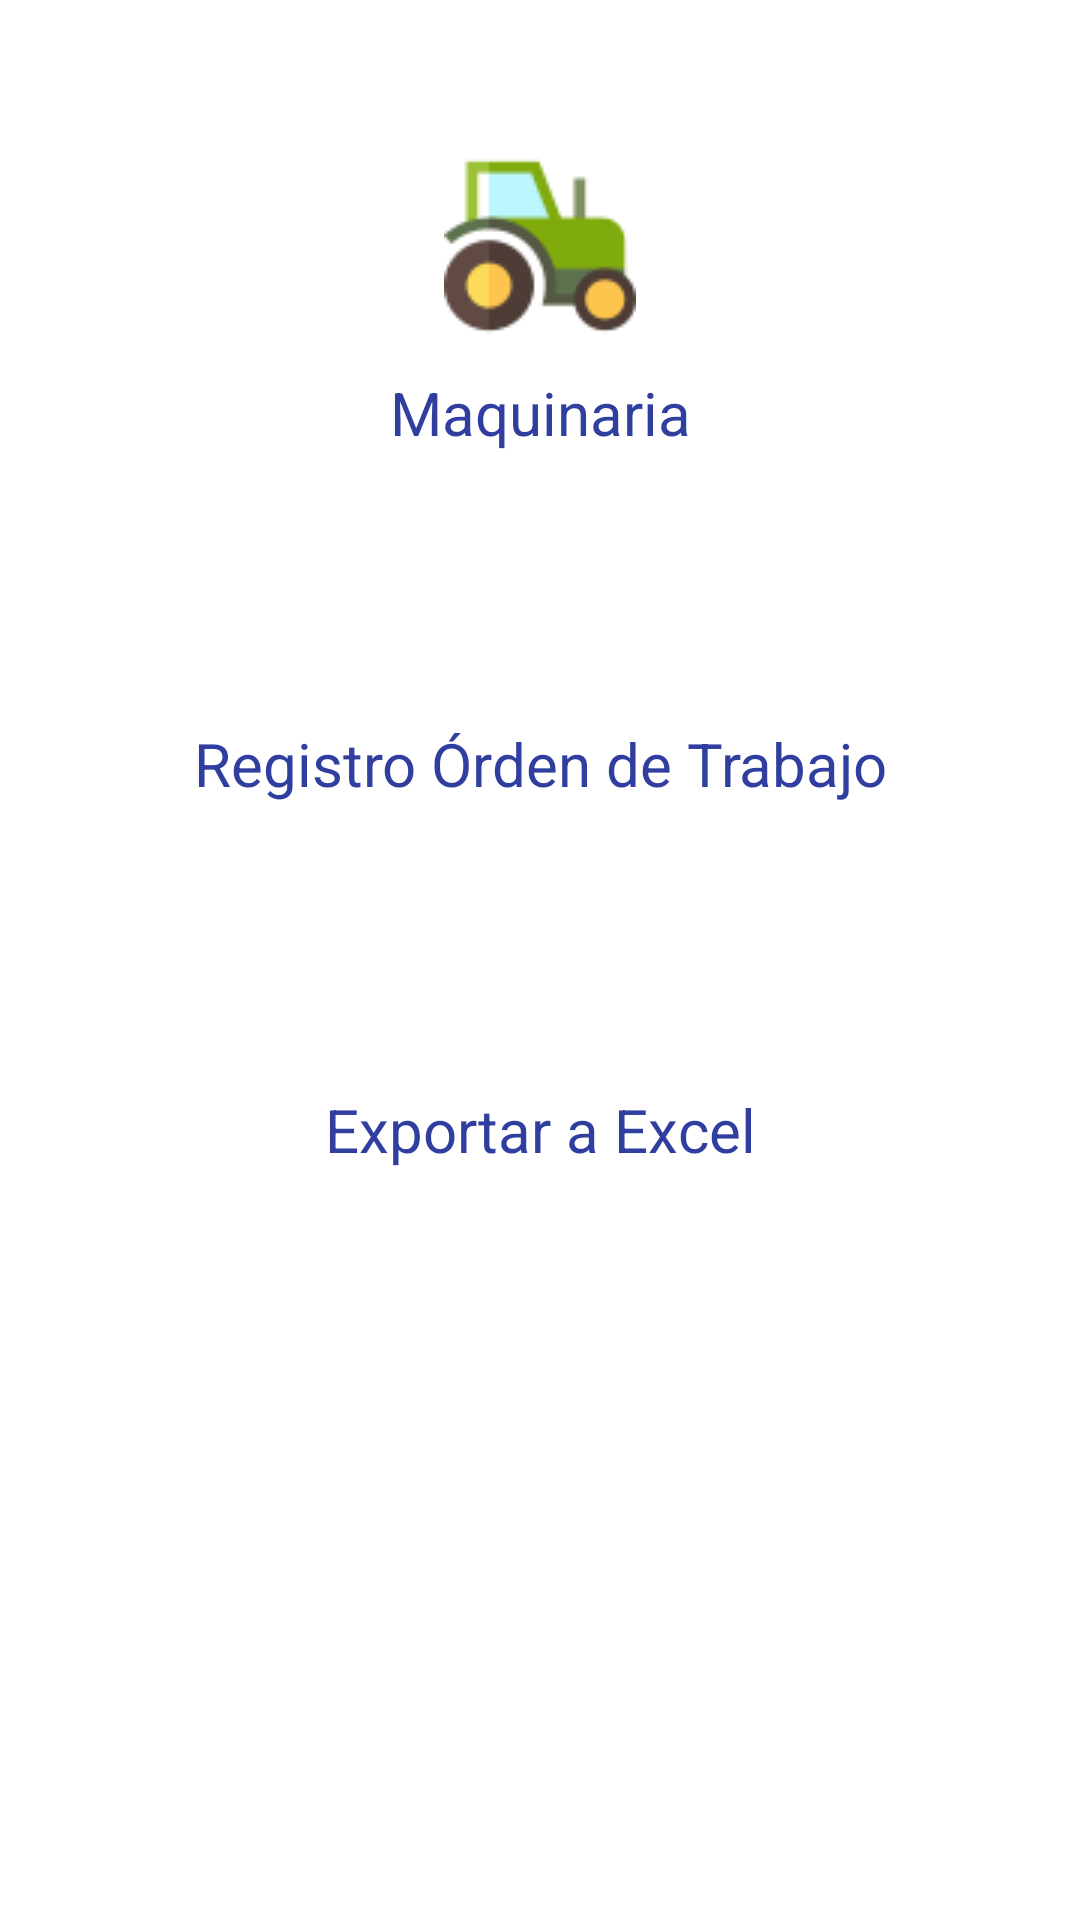

Icons on this 1080w x 1920h Android screen, each with its box as [x1=x1, y1=y1, x2=x2, y2=y2]:
tractores: [x1=444, y1=160, x2=636, y2=331]
